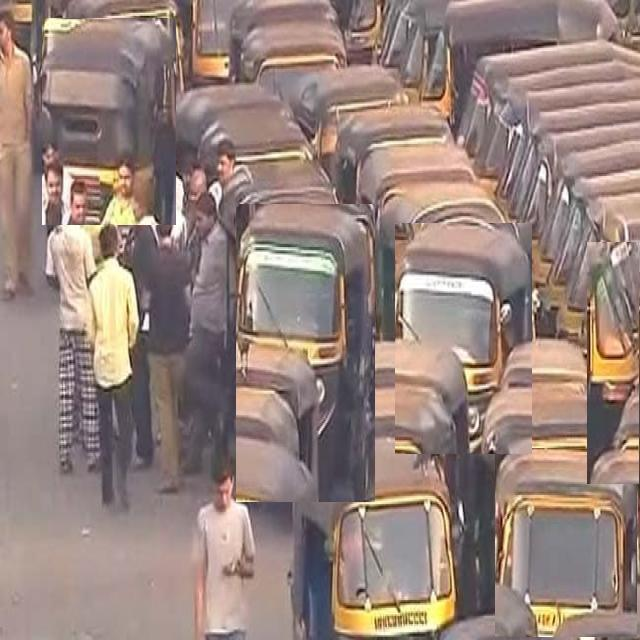autorickshaw: (236, 205, 375, 502), (291, 437, 455, 637), (395, 224, 532, 454), (42, 19, 176, 225), (496, 449, 637, 637), (588, 242, 639, 484)
